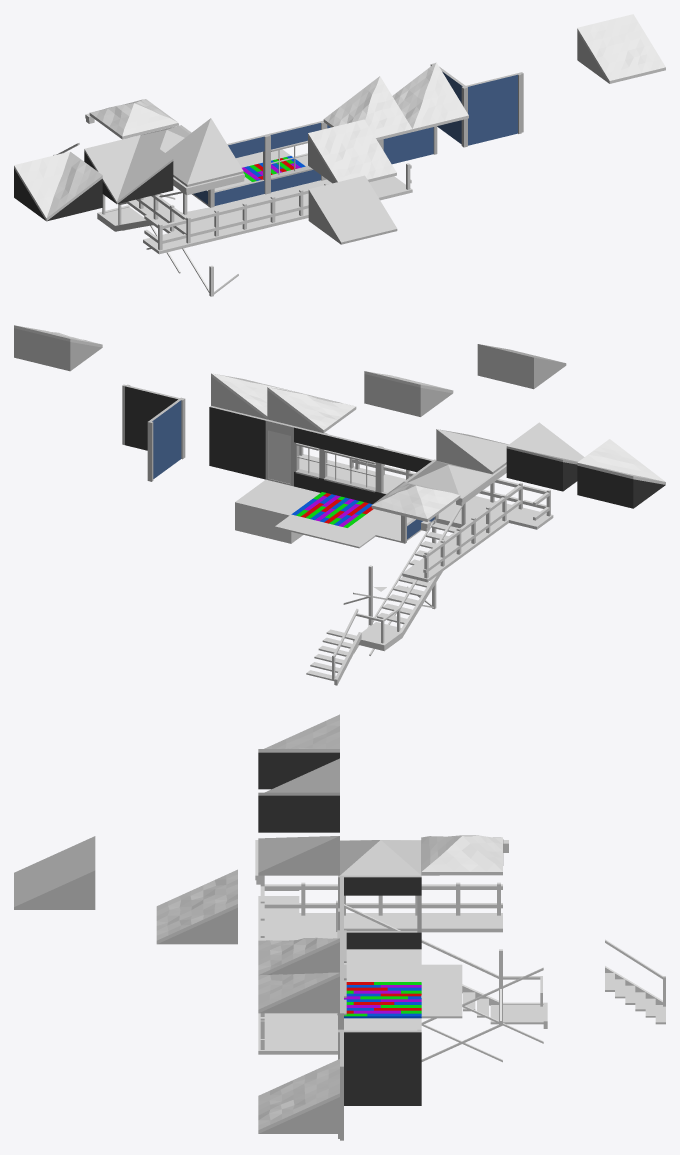
File: Watchtower Parts.fbx
3 views of the same model, one above another, from view 1: azimuth 30°, elevation 25°; view 2: azimuth 150°, elevation 25°; view 3: azimuth 270°, elevation 25° (orthographic). The views are drawn at different scales.
Parts seen in each view (by area): view 1: Roof Corner 2 Snow, Roof Corner 2, Roof Side Snow.001, House Wall Corner, Roof Side, Roof Side Snow, Roof Corner, Roof Corner Snow 2, Roof Corner Snow, Balcony Corner, Roof Center Snow, Balcony Side (+12 smaller); view 2: House Wall Corner, Roof Corner 2 Snow, Roof Corner 2, House Wall, Foundation, Roof Side Snow, Roof Corner Snow, Roof Side Snow.001, Roof Side, Roof Corner, Roof Center Snow, Roof Corner Snow 2 (+19 smaller); view 3: House Wall Corner, Roof Side Snow, Roof Side Snow.001, Roof Corner 2, Roof Side, Roof Corner 2 Snow, House Corner, Roof Center Snow, Roof Corner Snow 2, Roof Corner, Railing Exit, Balcony Corner (+12 smaller).
Boxes of the visible parts, left/top/right/bottom form: Roof Corner 2 Snow: left=14, top=151, right=102, bottom=221; Roof Corner 2: left=84, top=135, right=173, bottom=203; Roof Side Snow.001: left=577, top=14, right=665, bottom=83; House Wall Corner: left=430, top=63, right=521, bottom=147; Roof Side: left=308, top=175, right=397, bottom=244; Roof Side Snow: left=308, top=119, right=396, bottom=183; Roof Corner: left=165, top=118, right=243, bottom=186; Roof Corner Snow 2: left=392, top=62, right=468, bottom=131; Roof Corner Snow: left=323, top=76, right=412, bottom=140; Balcony Corner: left=155, top=196, right=243, bottom=247; Roof Center Snow: left=89, top=99, right=178, bottom=139; Balcony Side: left=212, top=191, right=299, bottom=233; House Wall Corner: left=125, top=384, right=185, bottom=481; Roof Corner 2 Snow: left=577, top=439, right=665, bottom=508; Roof Corner 2: left=506, top=422, right=584, bottom=491; House Wall: left=209, top=406, right=266, bottom=479; Foundation: left=235, top=479, right=319, bottom=543; Roof Side Snow: left=364, top=371, right=453, bottom=416; Roof Corner Snow: left=267, top=387, right=356, bottom=432; Roof Side Snow.001: left=14, top=325, right=102, bottom=371; Roof Side: left=477, top=344, right=566, bottom=389; Roof Corner: left=436, top=429, right=508, bottom=474; Roof Center Snow: left=371, top=481, right=460, bottom=521; Roof Corner Snow 2: left=211, top=373, right=297, bottom=419; House Wall Corner: left=338, top=1029, right=421, bottom=1138; Roof Side Snow: left=156, top=869, right=237, bottom=944; Roof Side Snow.001: left=258, top=1059, right=339, bottom=1133; Roof Corner 2: left=258, top=758, right=339, bottom=832; Roof Side: left=14, top=836, right=95, bottom=909; Roof Corner 2 Snow: left=258, top=714, right=339, bottom=789; House Corner: left=338, top=875, right=421, bottom=949; Roof Center Snow: left=421, top=835, right=503, bottom=875; Roof Corner Snow 2: left=258, top=972, right=339, bottom=1013; Roof Corner: left=258, top=836, right=339, bottom=875; Railing Exit: left=258, top=1013, right=337, bottom=1054; Balcony Corner: left=258, top=882, right=337, bottom=940.
Bounding box in the file's own units: 4400 × 1225 × 3200.
